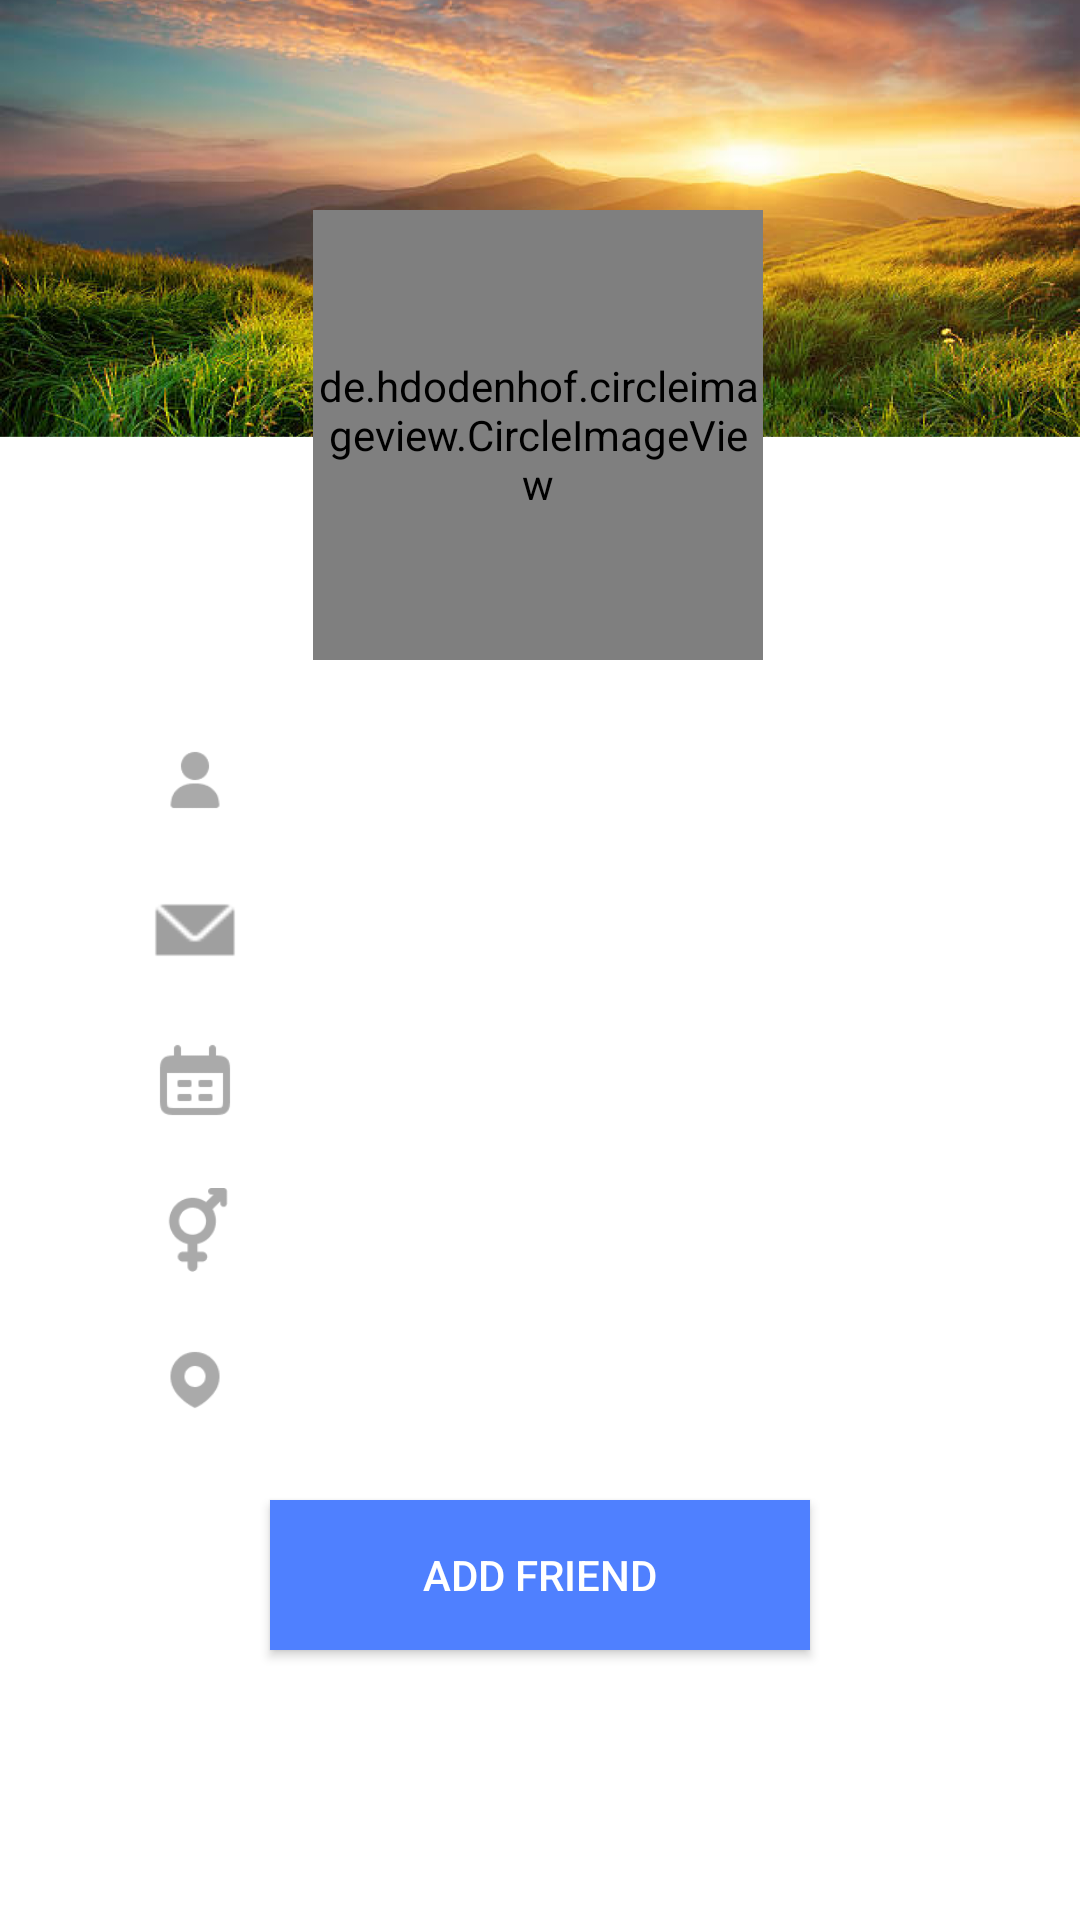

Point at icon controls on the screen. Image size 1080w x 1920h, points as [x,y].
addressp: [195,1380]
datep: [195,1080]
email: [195,930]
genderp: [198,1230]
usernamep: [195,780]
